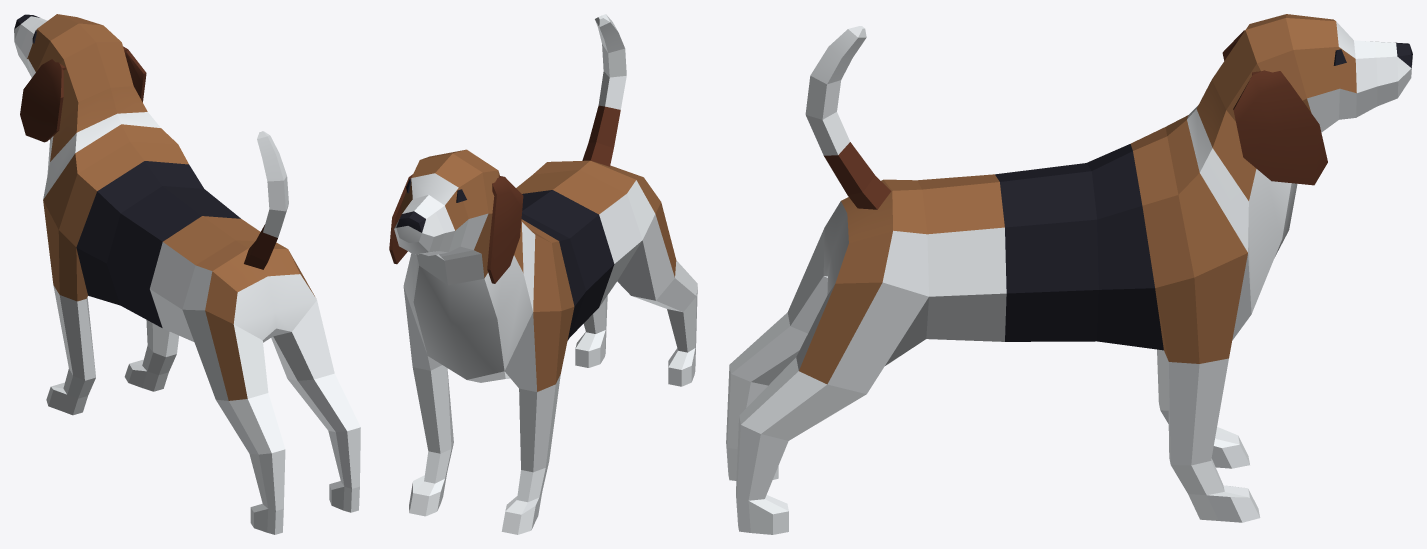
File: Mesh_Beagle.obj
The picture shows the model from 3 angles, left to right: view 1: azimuth 30°, elevation 25°; view 2: azimuth 150°, elevation 25°; view 3: azimuth 270°, elevation 25°; orthographic projection. The views are drawn at different scales.
Visible parts, largest first — view 1: Geo_Beagle; view 2: Geo_Beagle; view 3: Geo_Beagle.
Boxes of the visible parts, x1,y1,x2,y2 form: Geo_Beagle: [14, 14, 360, 534]; Geo_Beagle: [389, 14, 697, 534]; Geo_Beagle: [726, 14, 1412, 534].
Size of the model in its own units: 0.5439 by 1.33 by 1.75.
